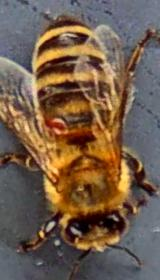varroa_mite: (40, 100, 78, 146)
